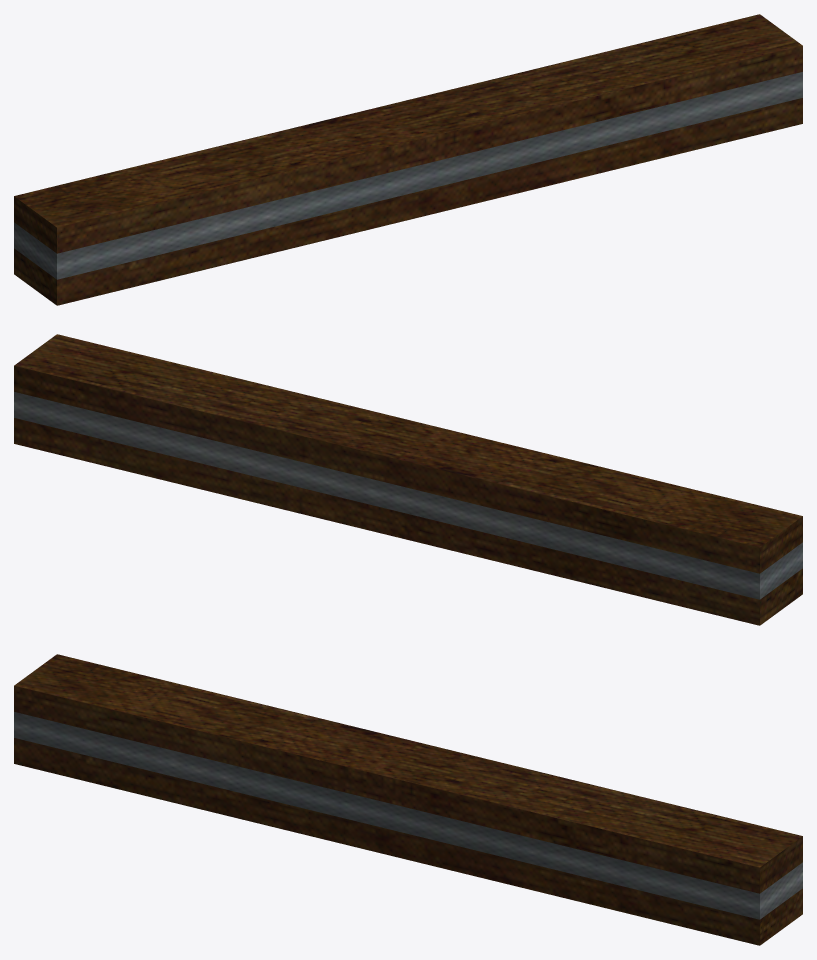
File: WoodSteelStraightBeam.glb
3 views of the same model, one above another, from view 1: azimuth 30°, elevation 25°; view 2: azimuth 150°, elevation 25°; view 3: azimuth 330°, elevation 25° (orthographic).
Parts seen in each view (by area): view 1: WoodBeem; view 2: WoodBeem; view 3: WoodBeem.
Boxes of the visible parts, x1,y1,x2,y2 form: WoodBeem: [14, 14, 802, 305]; WoodBeem: [14, 334, 802, 625]; WoodBeem: [14, 654, 802, 945].
Bounding box in the file's own units: 5.99 × 0.6 × 0.6.
2 materials, 2 textured.
